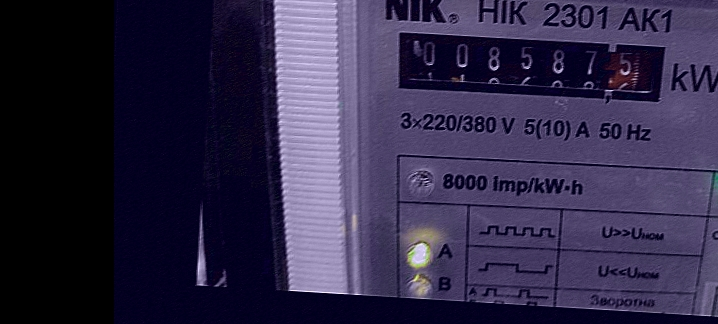0: (420, 37, 438, 67), (454, 40, 472, 69)
5: (617, 49, 636, 78), (518, 42, 536, 71)
7: (581, 45, 600, 76)
8: (549, 44, 568, 75), (486, 43, 503, 71)
screen: (378, 14, 684, 115)
